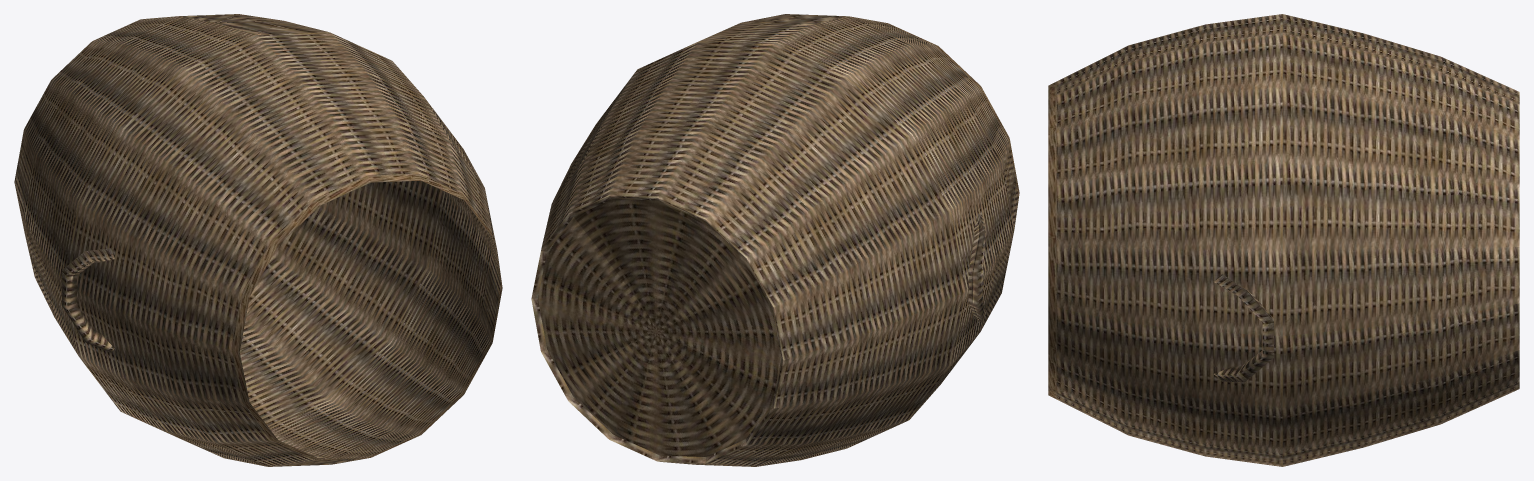
Rendered from prop_rattanbasket4.glb.
3 views of the same model, side by side, from view 1: azimuth 30°, elevation 25°; view 2: azimuth 150°, elevation 25°; view 3: azimuth 270°, elevation 25° (orthographic). The views are drawn at different scales.
Bounding box in the file's own units: 37.16 × 35.76 × 37.17.
Materials: 1 (1 with a texture image).
